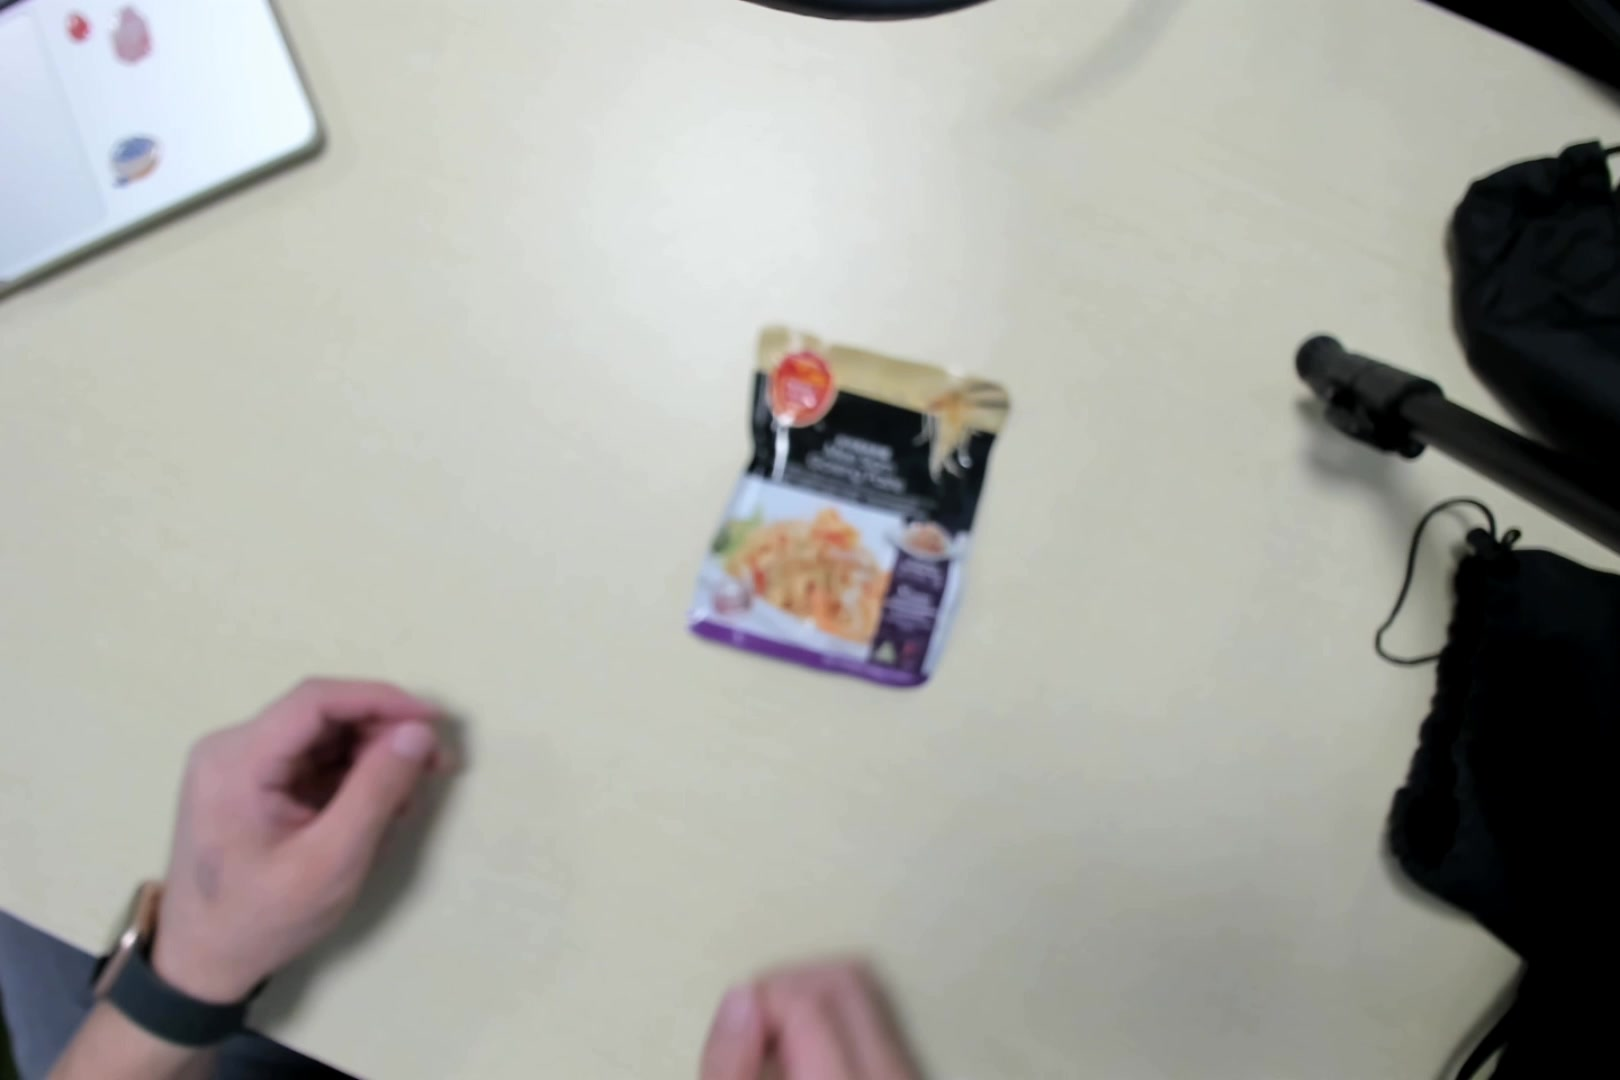CurryPastePowderSauce_0-99g_NonHalal_NonHealthy: (689, 329, 998, 677)
